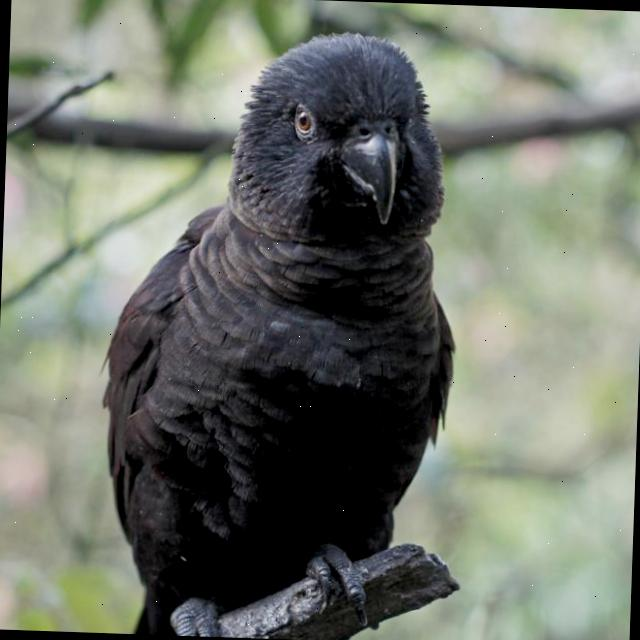Nuri Hitam: (69, 14, 474, 640)
